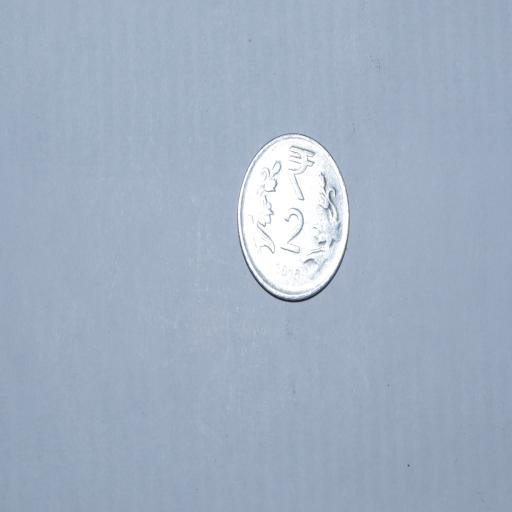rupee2: (236, 134, 349, 302)
